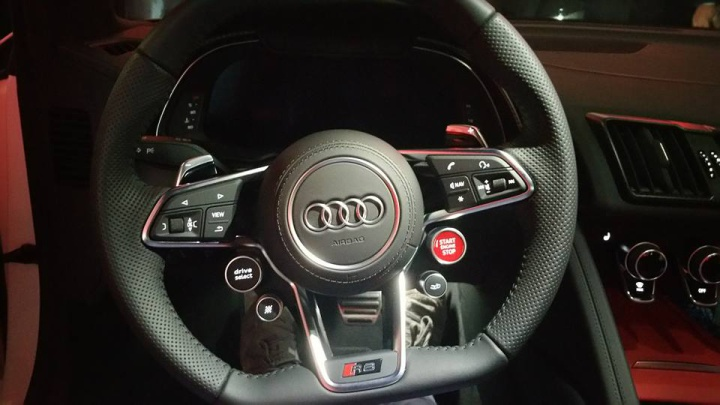audi: (300, 192, 387, 236)
